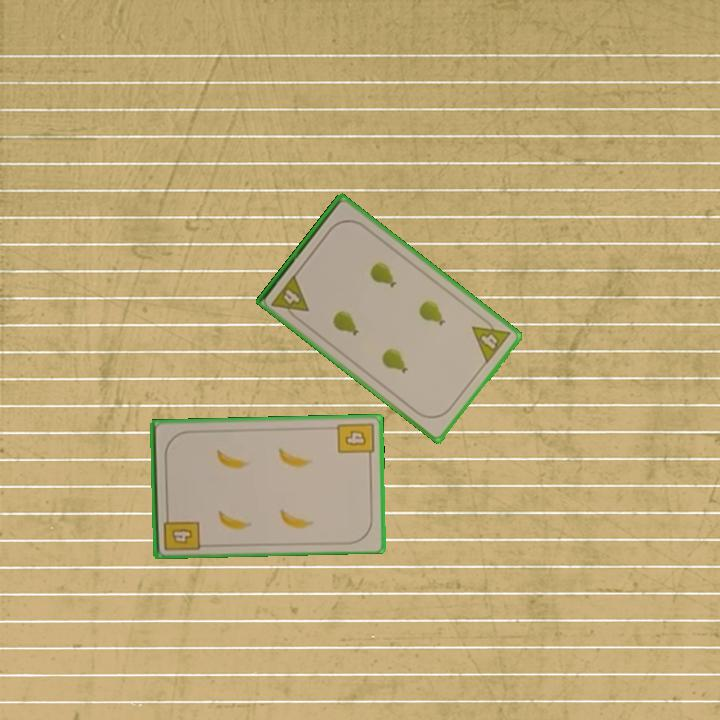4b: (334, 419, 376, 463), (160, 509, 202, 553)
4p: (468, 312, 513, 367), (268, 271, 312, 324)
